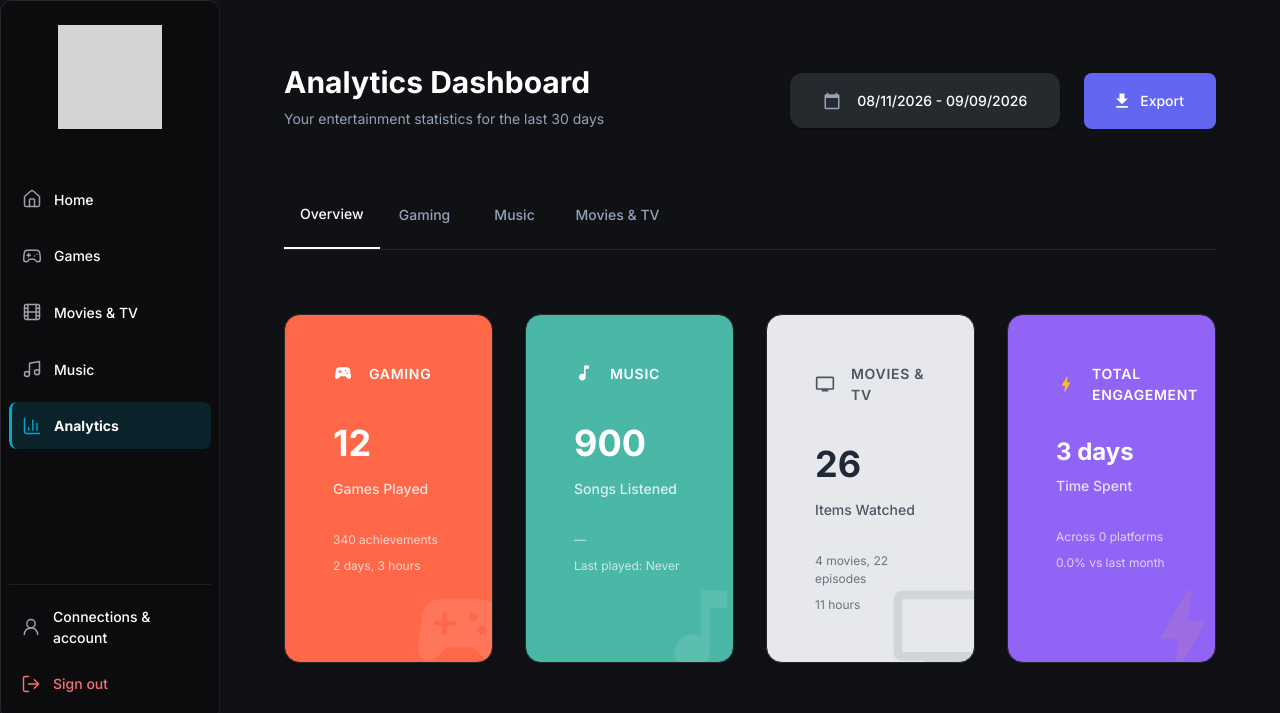
Test: AnalyticsPage (audit #2) › shows em-dashes instead of crashing when a platform is missing from platform_distribution
Click the tab "Gaming".
click(424, 221)  # box [380,193,470,248]
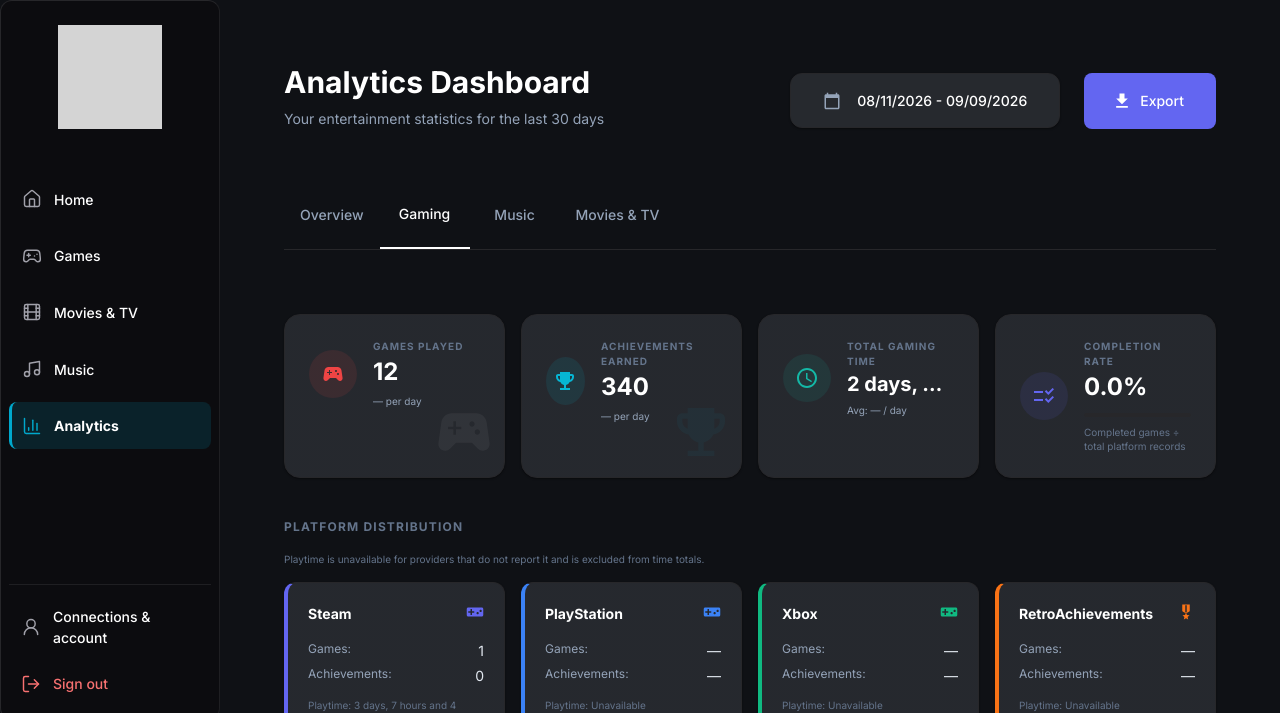
Expected: the text "PlayStation" is shown, [545,602,623,624]
Expected: the text "Xbox" is shown, [782,602,818,624]
Expected: the text "RetroAchievements" is shown, [1019,602,1153,624]
